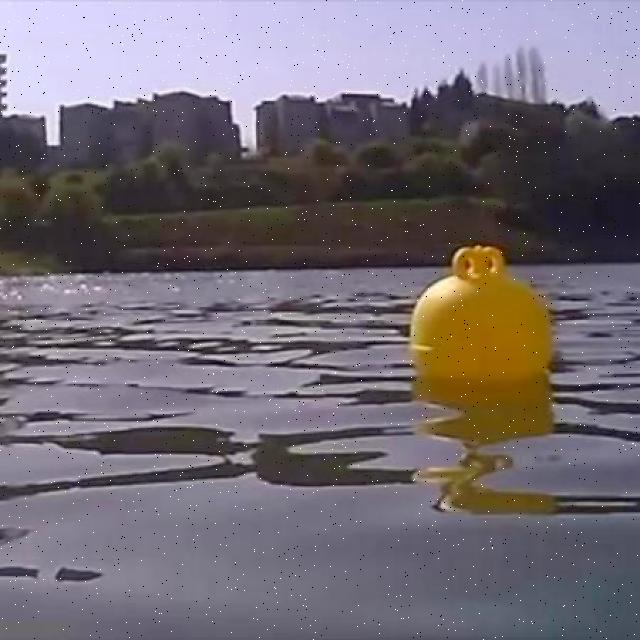buoy: (417, 242, 558, 388)
